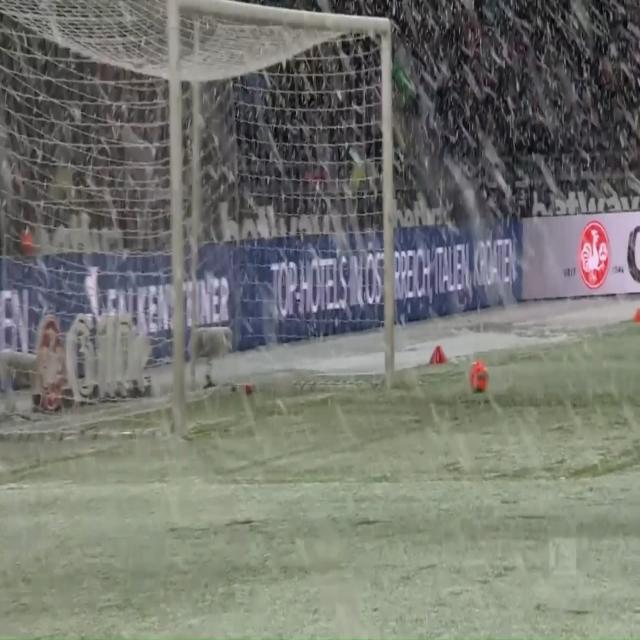ball: (465, 355, 495, 404)
